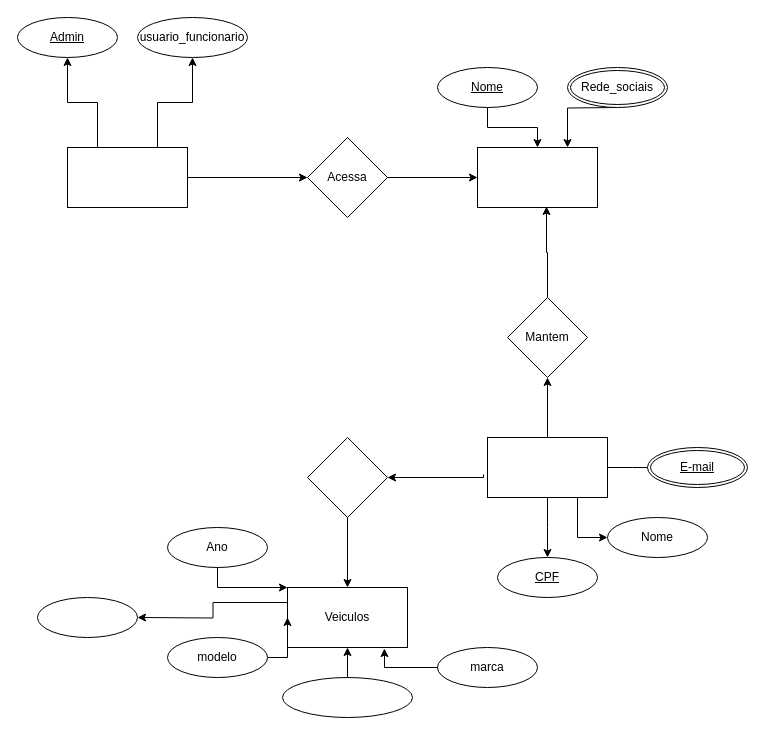
This 765x735 diagram has some shape labels left out. The centre of each missing label's shape, as x and y in pixels:
"Administra" goes at pixel 347 477.
"Codigo_di_veiculo" goes at pixel 87 617.
"Descricao_do_veiculo" goes at pixel 347 697.
"Funciionario" goes at pixel 547 467.
"Login_funcionario" goes at pixel 127 177.
"Site_concessionaria" goes at pixel 537 177.
